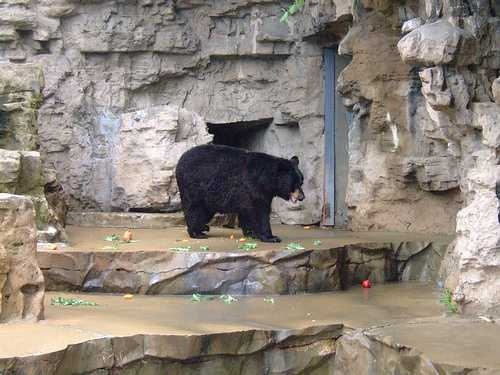bear: (177, 123, 305, 251)
